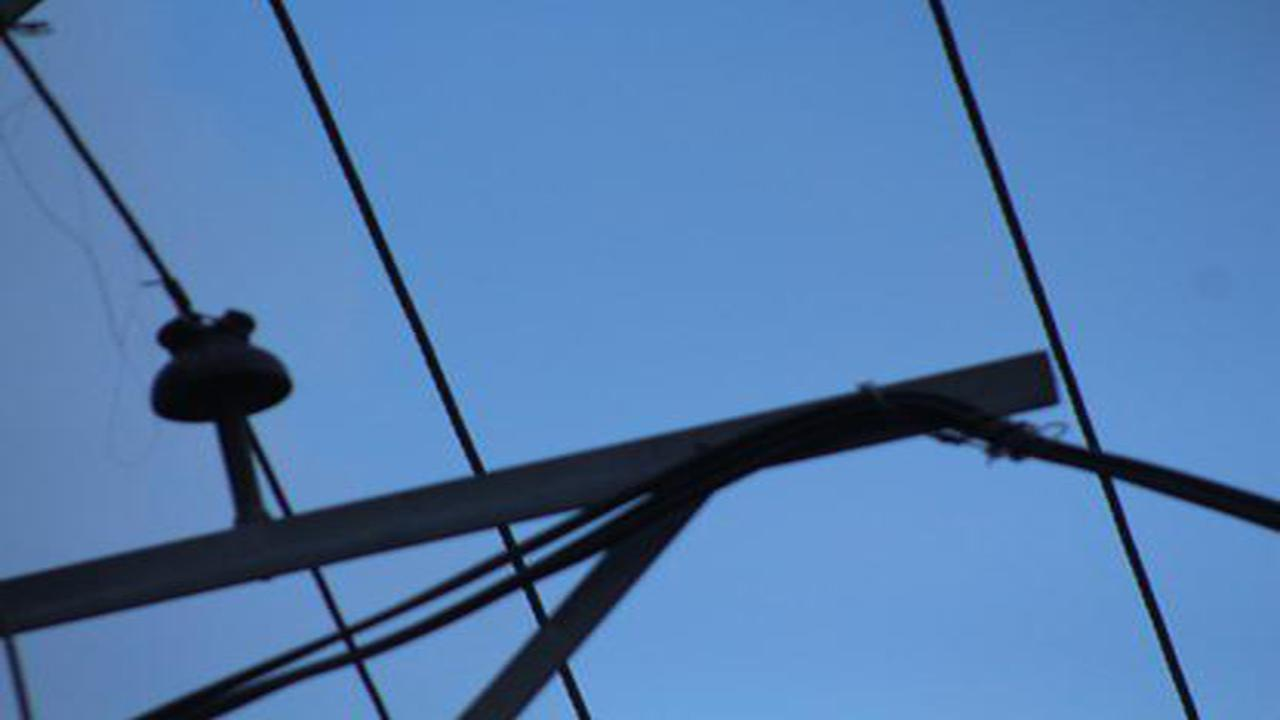insulator_pin: (144, 302, 301, 434)
